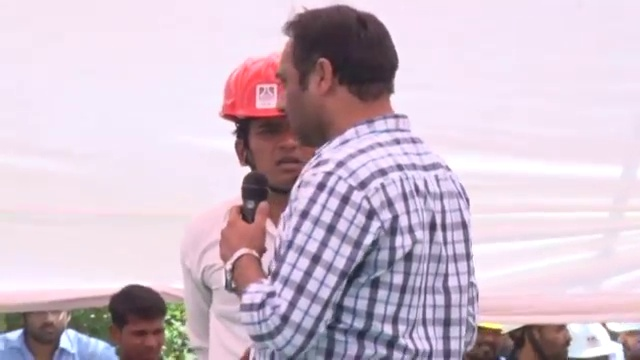helmet: (217, 49, 294, 121), (565, 322, 622, 359)
helmet_off: (270, 12, 398, 122), (101, 287, 170, 358), (504, 323, 577, 359), (15, 308, 70, 344), (468, 323, 503, 359), (616, 326, 640, 360)
helmet_on: (216, 49, 321, 201)
person: (218, 5, 479, 359), (180, 46, 323, 360), (0, 309, 117, 359)
